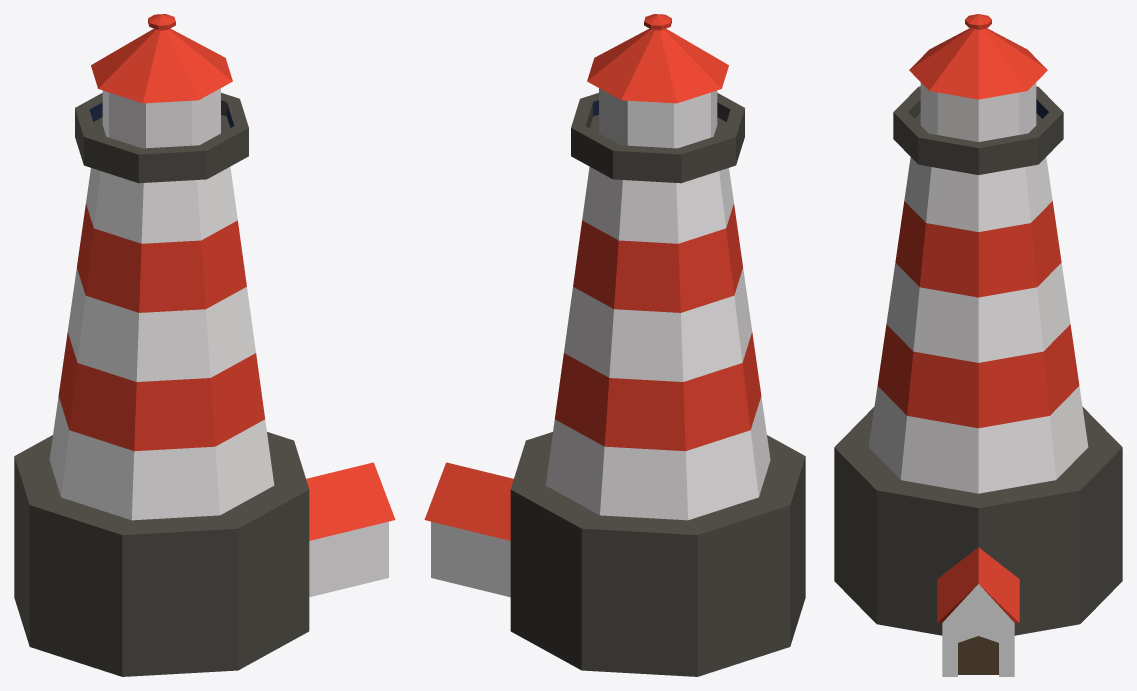
Rendered from lighthouse.fbx.
The picture shows the model from 3 angles, left to right: view 1: azimuth 30°, elevation 25°; view 2: azimuth 150°, elevation 25°; view 3: azimuth 270°, elevation 25°; orthographic projection. The views are drawn at different scales.
Parts seen in each view (by area): view 1: lighthouse, entrance; view 2: lighthouse, entrance; view 3: lighthouse, entrance.
Boxes of the visible parts, box(x1,y1,x2,y2) form: lighthouse: box(14, 14, 309, 676); entrance: box(306, 462, 395, 597); lighthouse: box(510, 14, 805, 676); entrance: box(424, 462, 513, 597); lighthouse: box(834, 14, 1122, 635); entrance: box(937, 547, 1019, 676).
Size of the model in its own units: 329 by 548 by 253.
